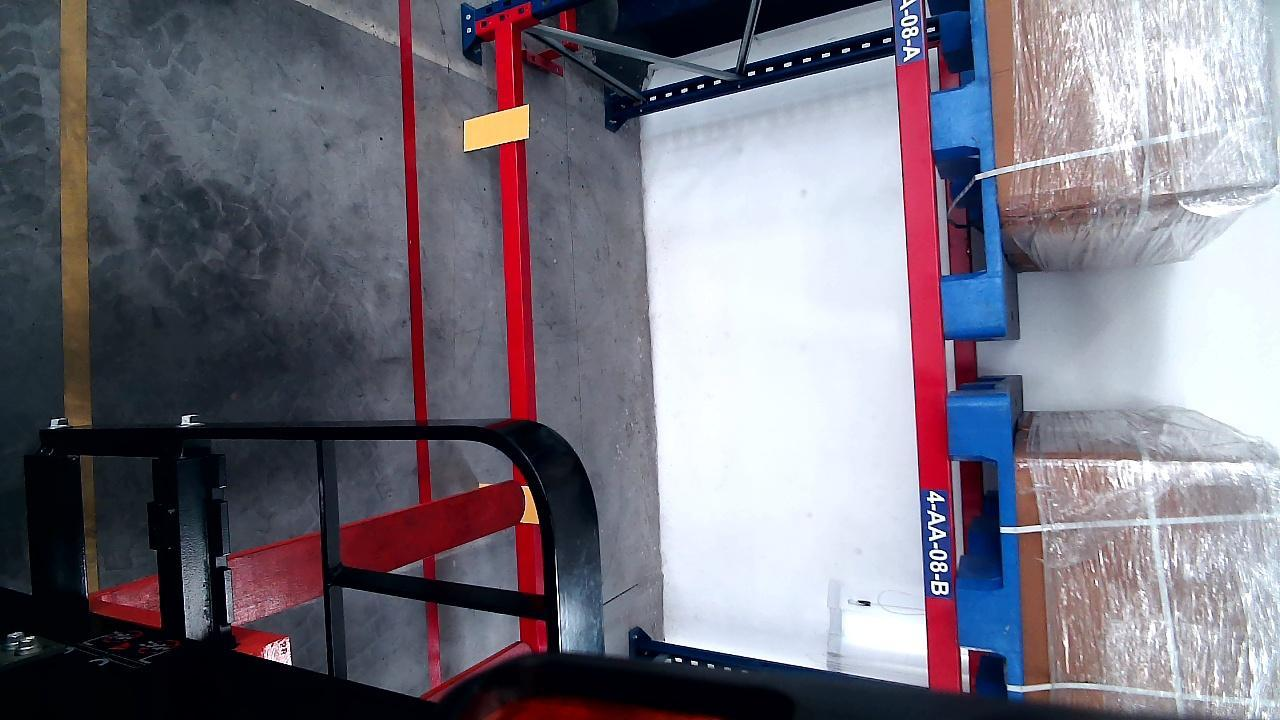red_line: (398, 0, 435, 505)
yellow_line: (59, 1, 93, 419)
